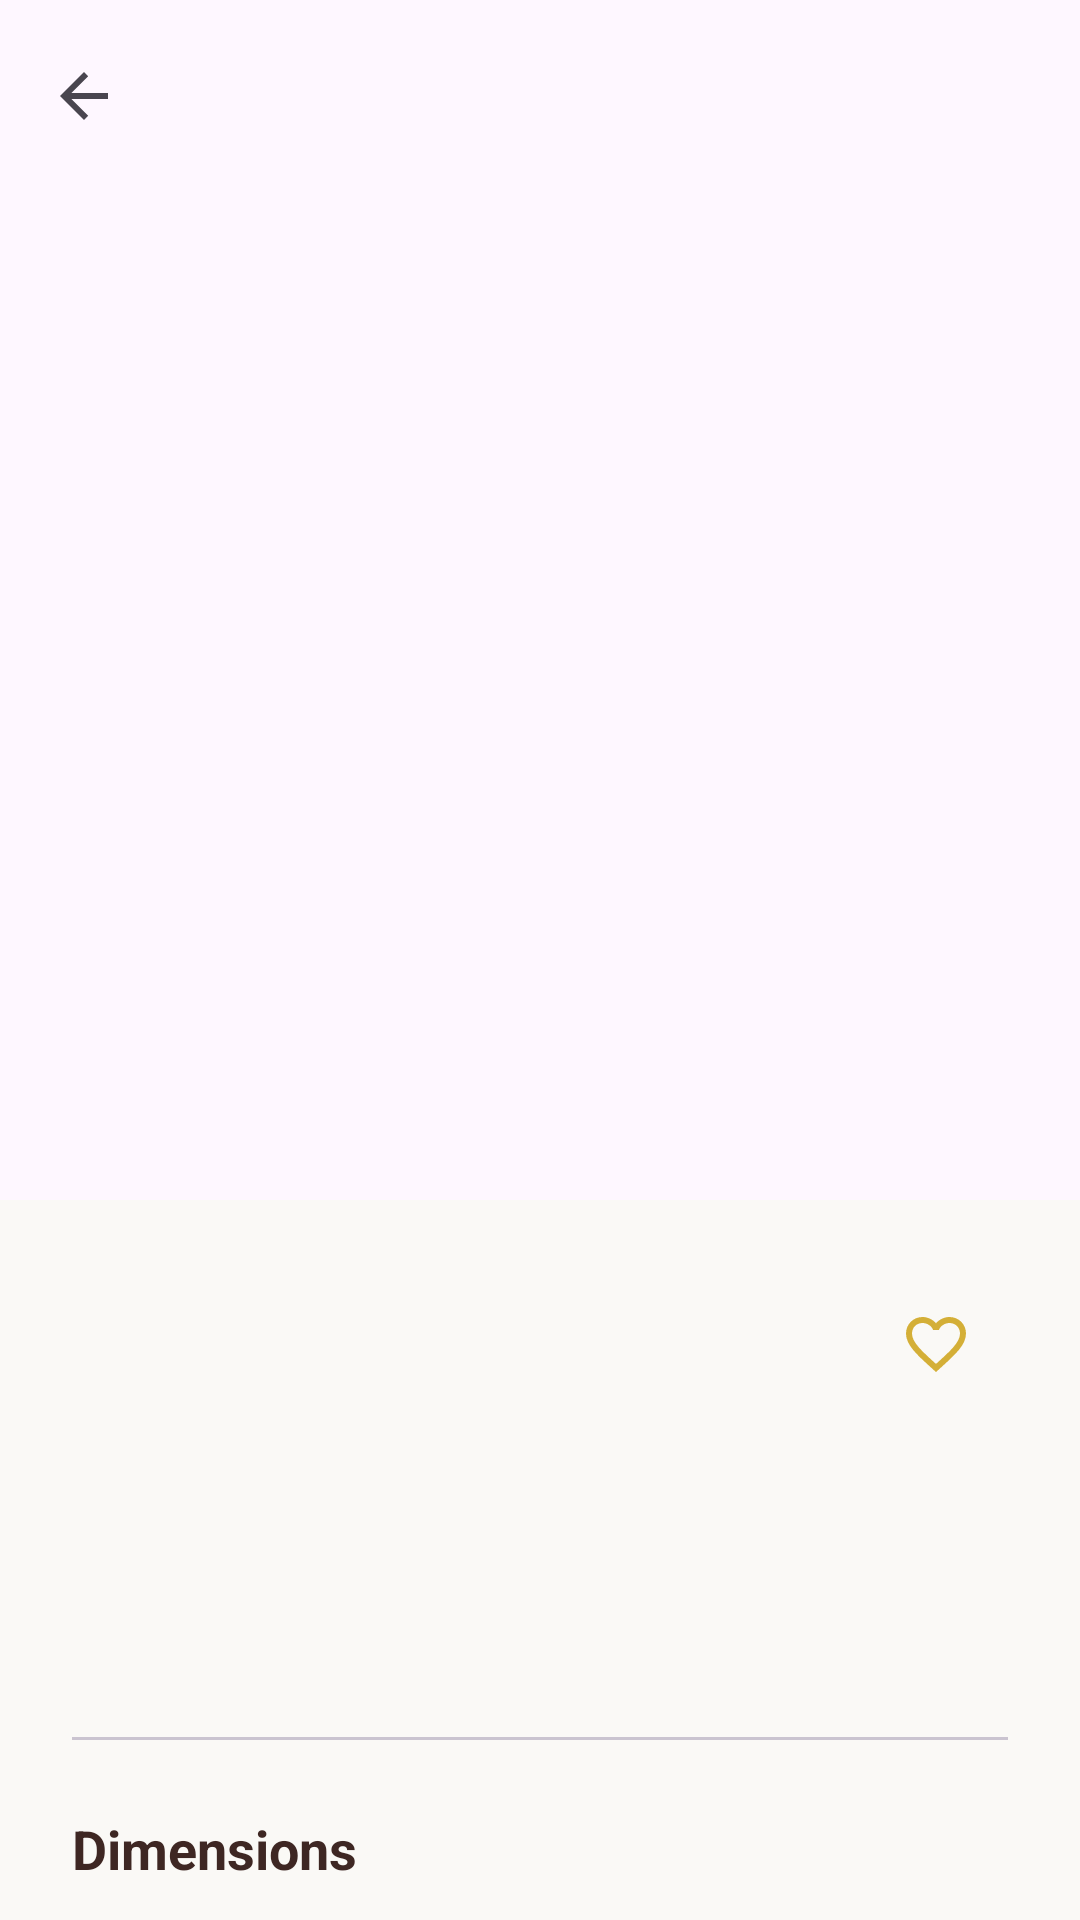

Screen size 1080px×1920px. Icon name, then its center in pixels as [x,y]:
favorite border: [936,1344]
